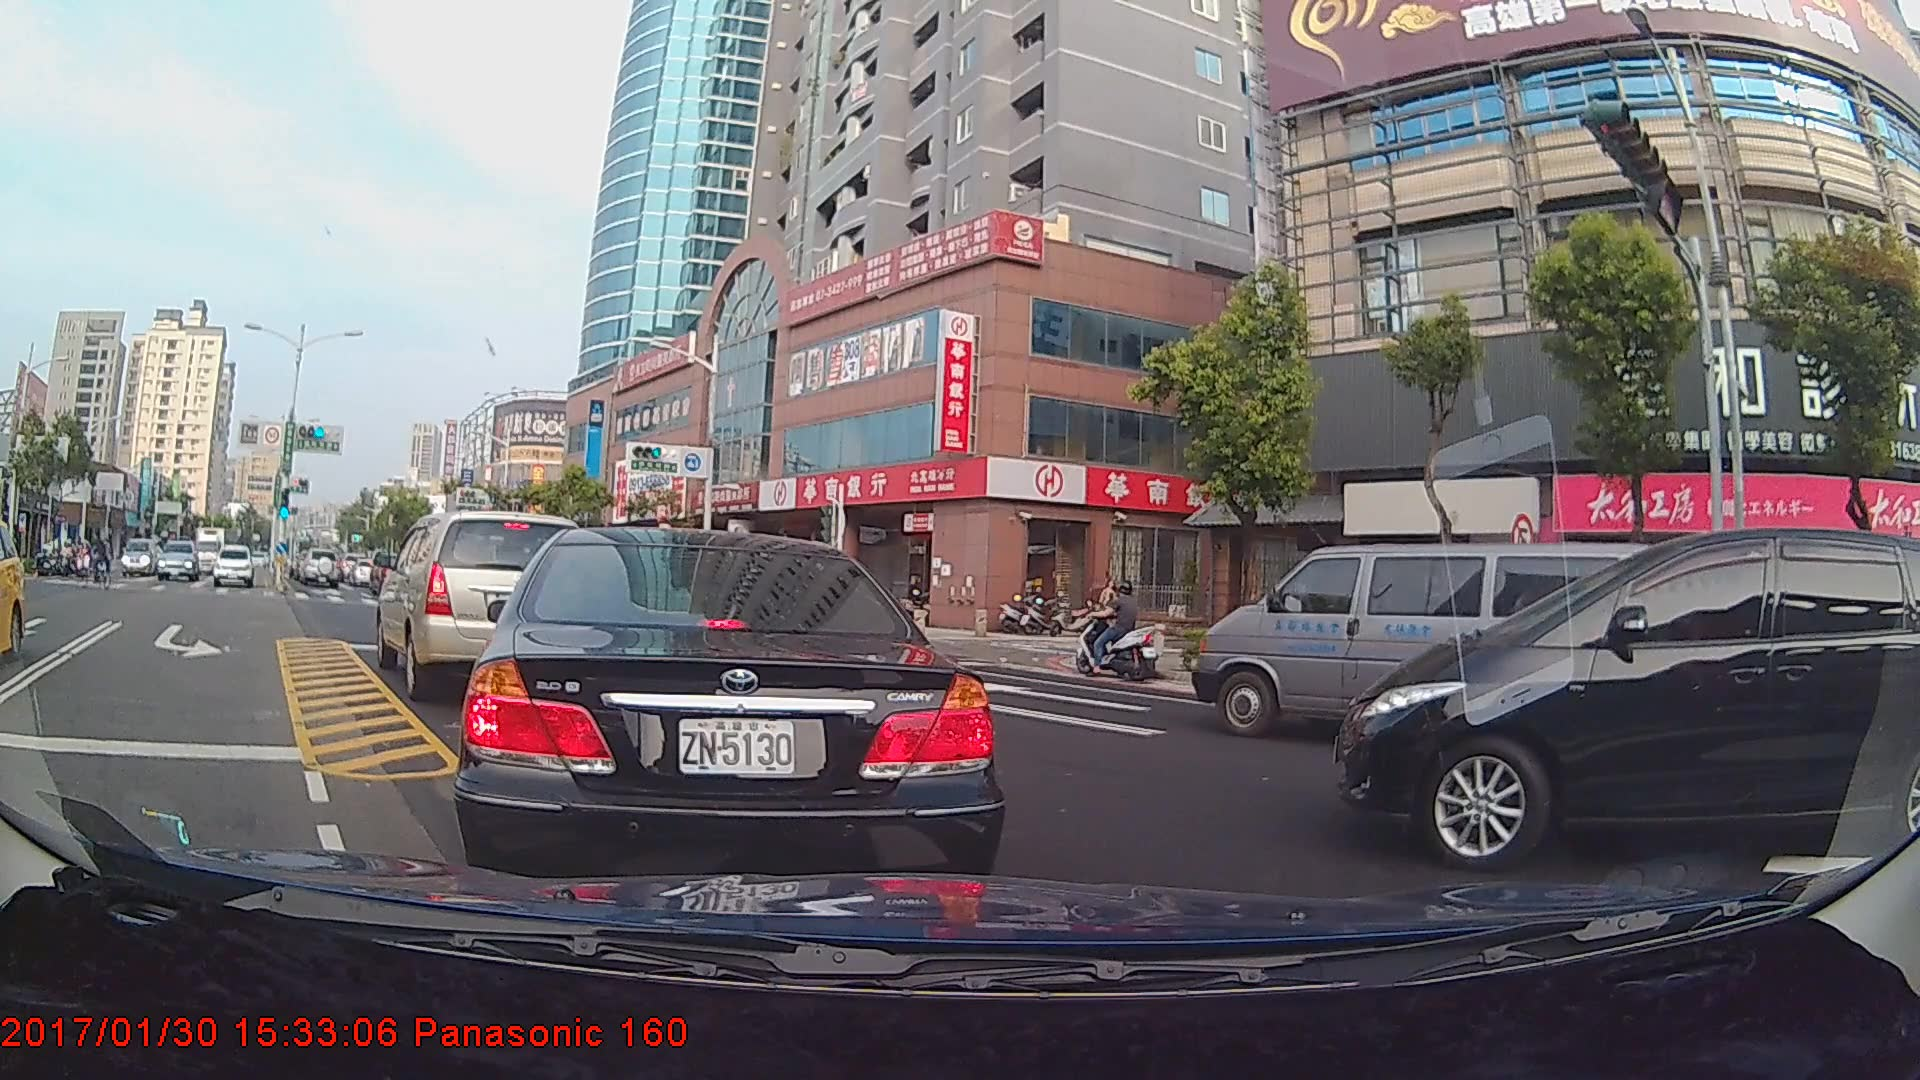pedestrian: (1099, 576, 1119, 632)
rider: (1068, 577, 1171, 687), (72, 531, 120, 592)
vehicle: (448, 519, 1007, 894), (1329, 522, 1911, 870), (1192, 537, 1640, 746), (374, 505, 589, 699), (0, 527, 27, 658), (187, 525, 247, 570), (294, 545, 344, 588), (155, 537, 201, 582), (212, 543, 254, 588), (121, 535, 165, 578)
